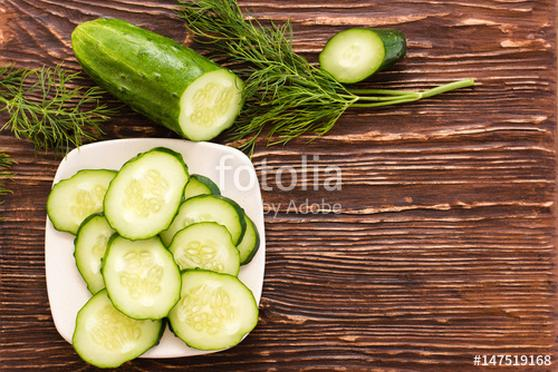cucumber: (65, 18, 190, 130)
